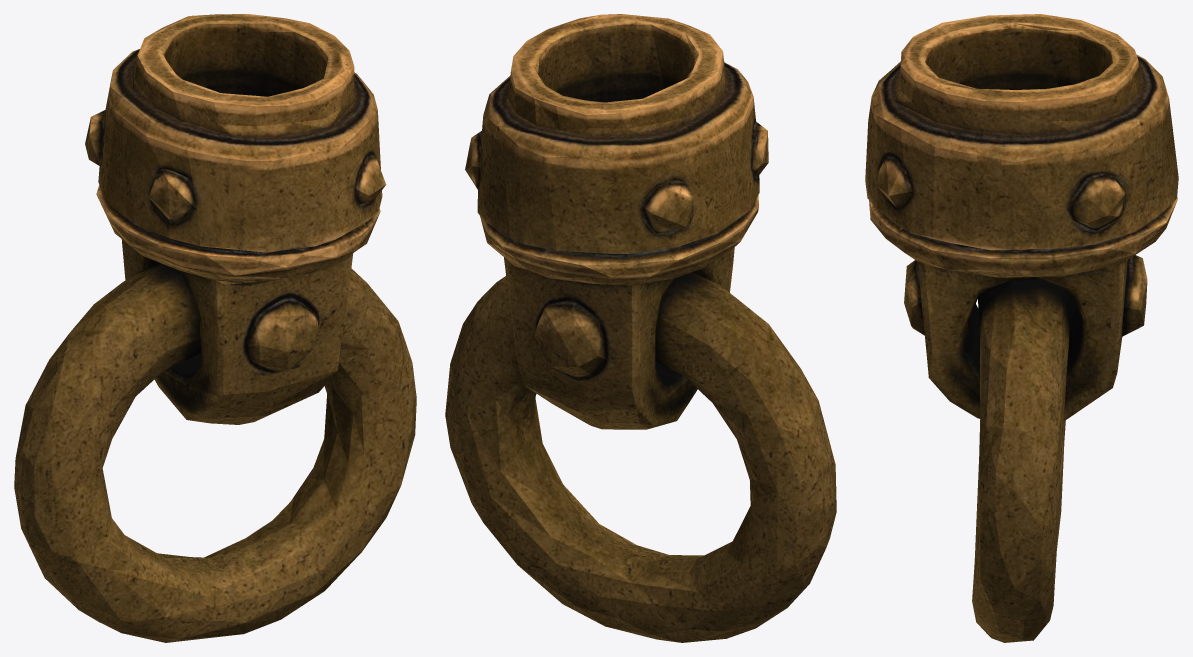
3 renders of one model, left to right at view 1: azimuth 30°, elevation 25°; view 2: azimuth 150°, elevation 25°; view 3: azimuth 270°, elevation 25°, orthographic. The views are drawn at different scales.
Visible parts, largest first — view 1: geometry_0; view 2: geometry_0; view 3: geometry_0.
Boxes of the visible parts, box(x1,y1,x2,y2) form: geometry_0: box(14, 14, 416, 642); geometry_0: box(445, 14, 836, 642); geometry_0: box(865, 14, 1178, 642).
Bounding box in the file's own units: 0.7046 × 1 × 0.4887.
Materials: 1 (1 with a texture image).
